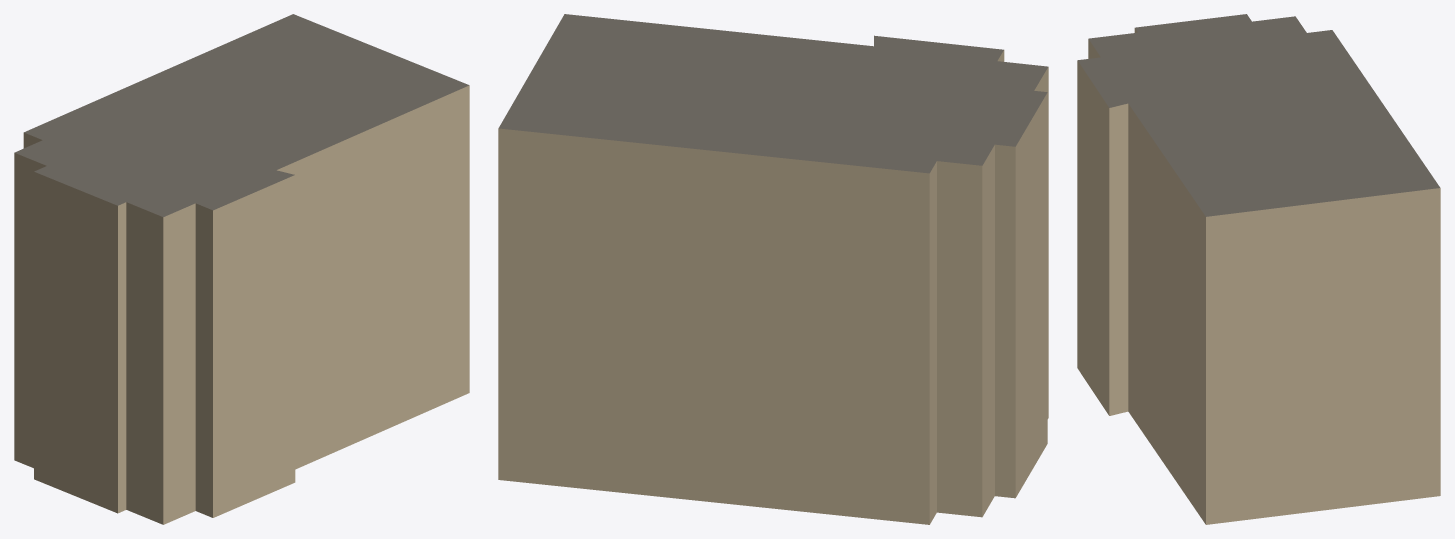
3 renders of one model, left to right at view 1: azimuth 30°, elevation 25°; view 2: azimuth 150°, elevation 25°; view 3: azimuth 270°, elevation 25°, orthographic. The views are drawn at different scales.
Visible parts, largest first — view 1: HP-w292718778; view 2: HP-w292718778; view 3: HP-w292718778.
Part boxes in pixels (<box>): HP-w292718778: <box>14,14,469,524</box>; HP-w292718778: <box>498,14,1048,524</box>; HP-w292718778: <box>1077,14,1440,524</box>.
Size of the model in its own units: 49.43 by 35 by 37.38.
